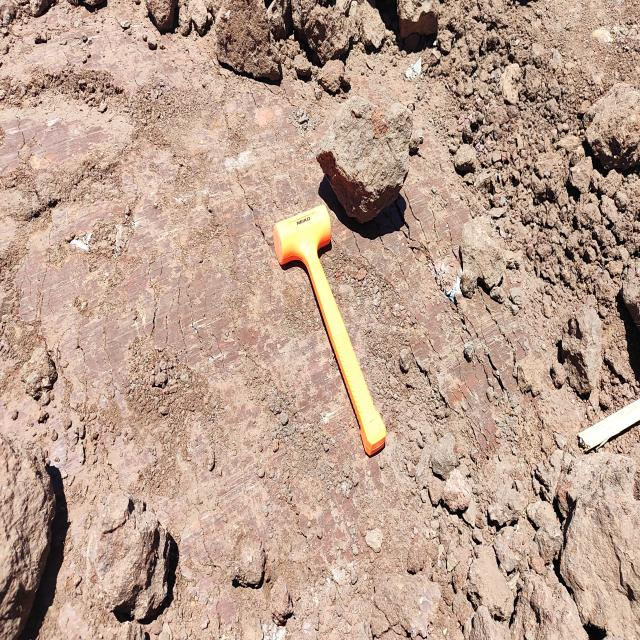Orange_hammer: (272, 203, 387, 457)
